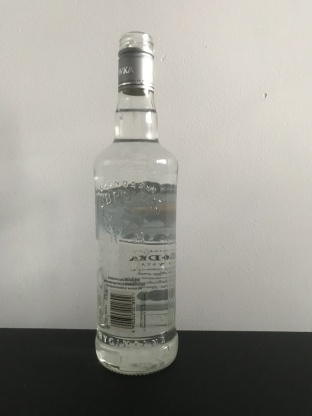nakretka: (116, 28, 156, 95)
